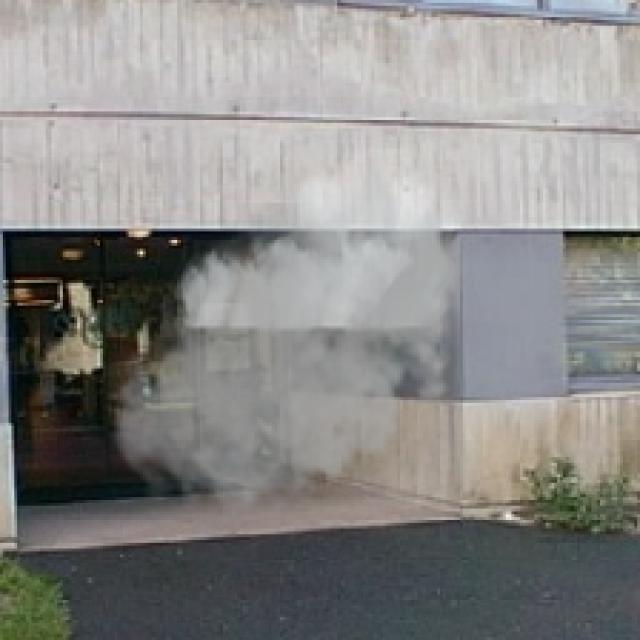smoke: (106, 148, 474, 528)
